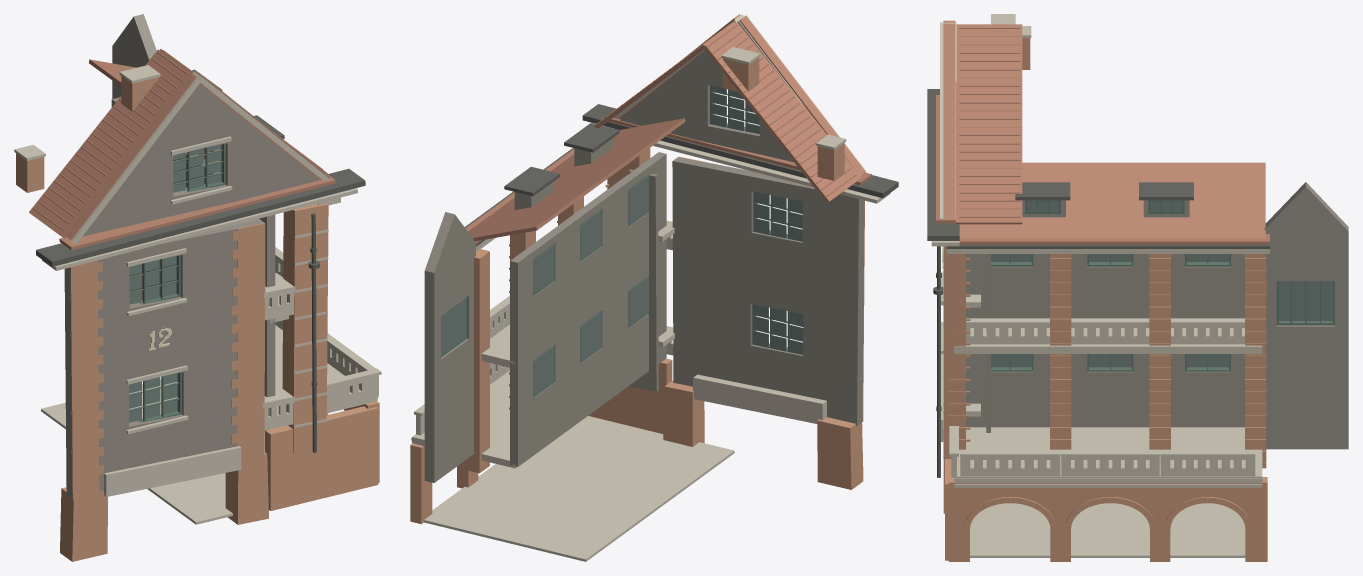
The model's file is full-source.glb.
The picture shows the model from 3 angles, left to right: view 1: azimuth 30°, elevation 25°; view 2: azimuth 150°, elevation 25°; view 3: azimuth 270°, elevation 25°; orthographic projection. The views are drawn at different scales.
Visible parts, largest first — view 1: 新华村12号题号山墙; view 2: 新华村12号题号山墙; view 3: 新华村12号题号山墙.
Part boxes in pixels (<box>): 新华村12号题号山墙: <box>14,14,381,561</box>; 新华村12号题号山墙: <box>410,14,898,561</box>; 新华村12号题号山墙: <box>927,14,1348,561</box>.
Size of the model in its own units: 9.85 by 12.73 by 10.64.
